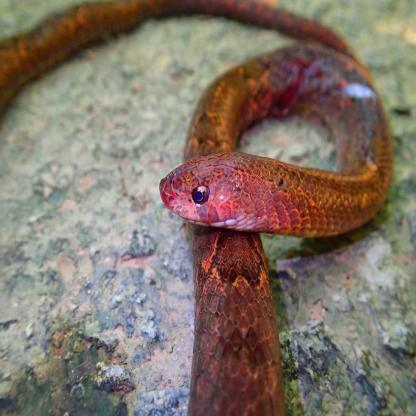Snake: (154, 36, 388, 240)
